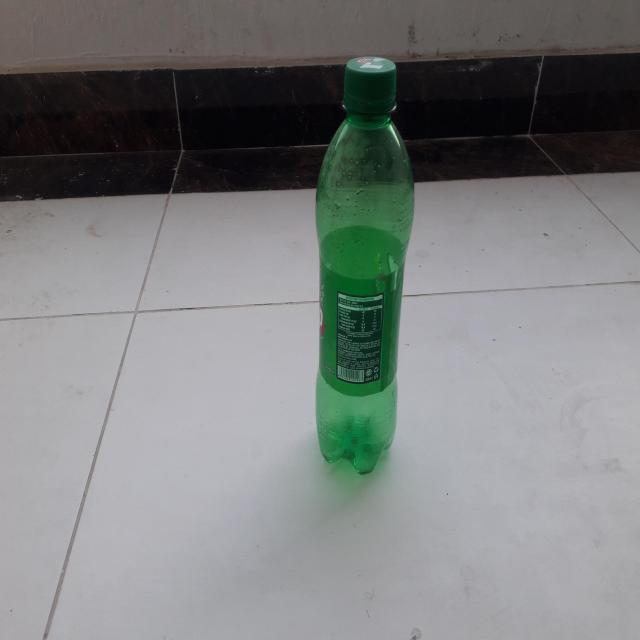bottle-plastic: (314, 54, 416, 476)
